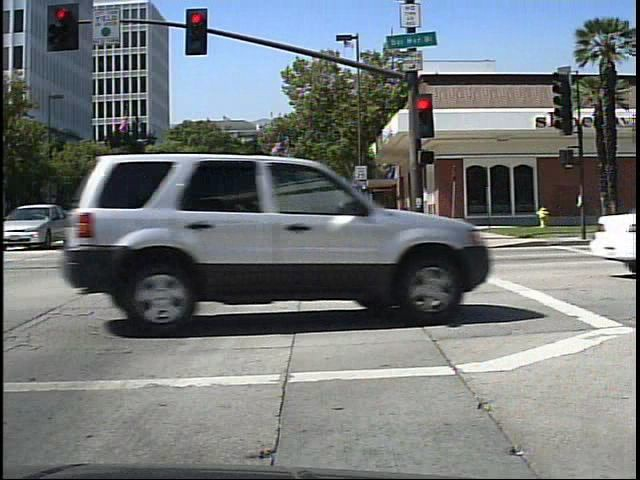person: (268, 205, 280, 224)
